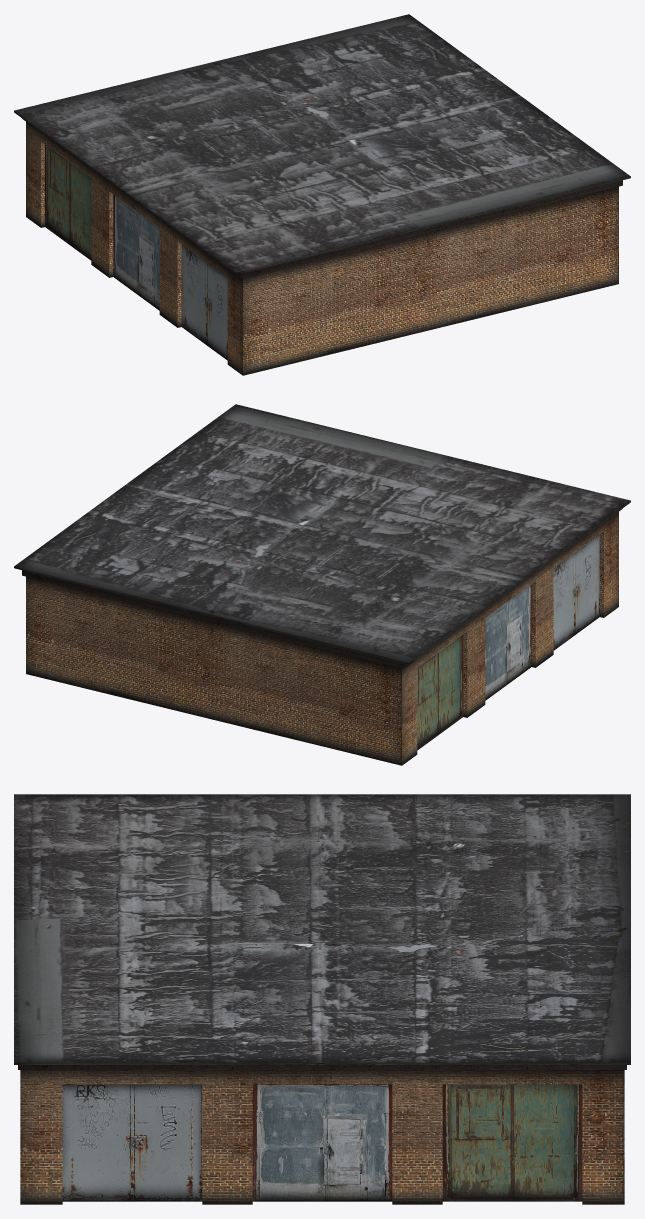
The model's file is d_garage_4.FBX.
3 views of the same model, one above another, from view 1: azimuth 30°, elevation 25°; view 2: azimuth 150°, elevation 25°; view 3: azimuth 270°, elevation 25° (orthographic). The views are drawn at different scales.
Parts seen in each view (by area): view 1: d_garage_4; view 2: d_garage_4; view 3: d_garage_4.
Boxes of the visible parts, x1,y1,x2,y2 form: d_garage_4: [14, 14, 630, 375]; d_garage_4: [14, 404, 630, 765]; d_garage_4: [14, 794, 630, 1204].
Size of the model in its own units: 10.02 by 9.74 by 2.59.
